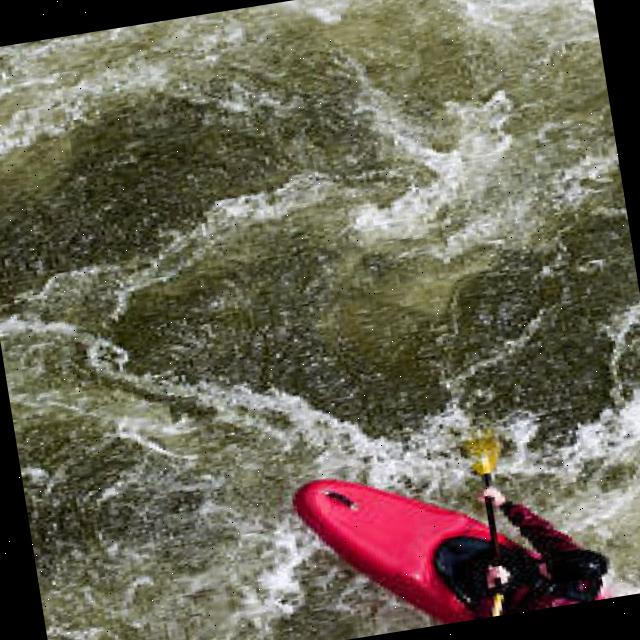kayak: (294, 477, 611, 623)
